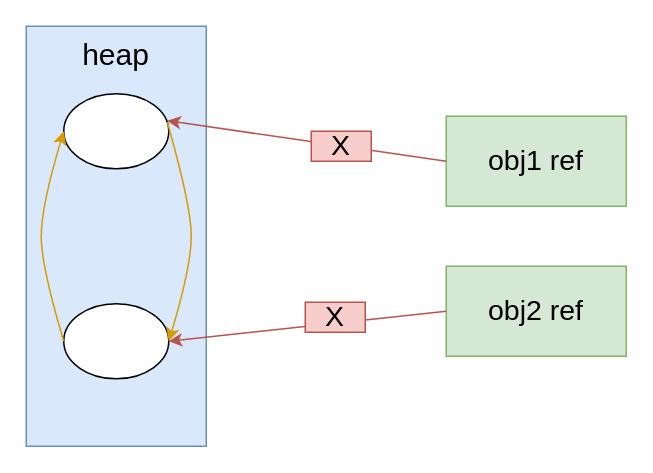
Image size: 653x473. Some labels were removed from this diagram. Each missing label, with the centre of its shape:
Obj1: [115,130]
Obj2: [115,340]
